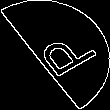P_SW: (18, 26, 92, 84)
